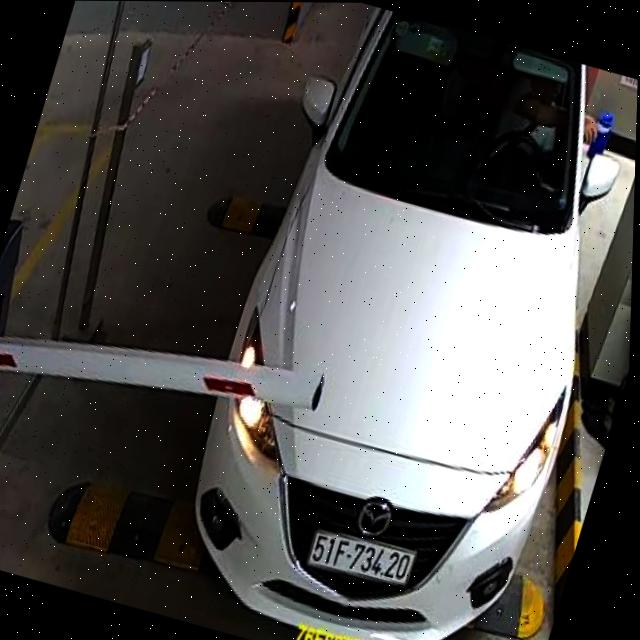car: (148, 1, 640, 640)
plate: (302, 522, 419, 594)
